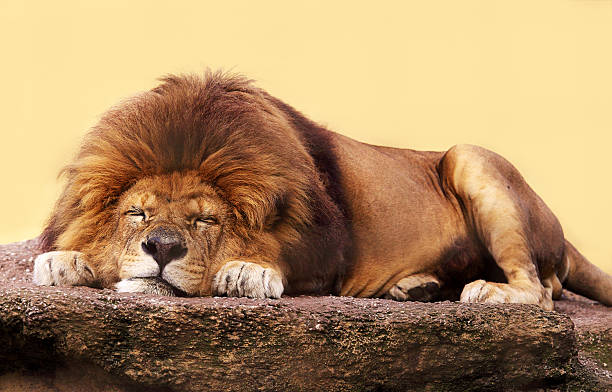lion: (20, 62, 351, 328)
